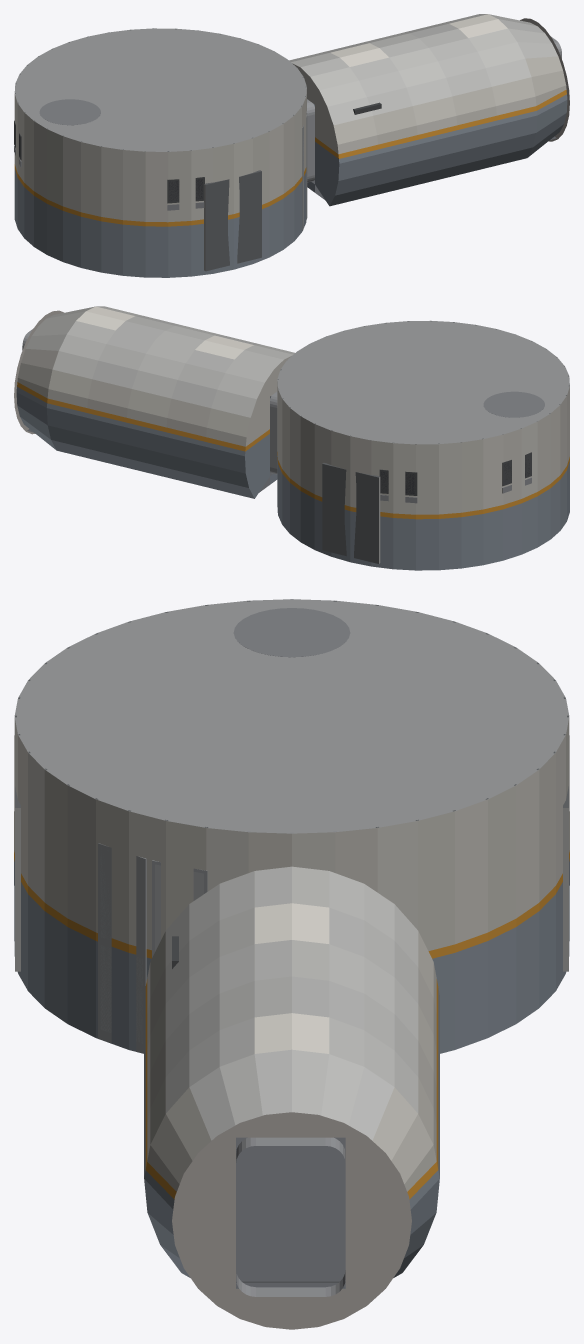
The model's file is habitat_interior.glb.
3 renders of one model, top to bottom at view 1: azimuth 30°, elevation 25°; view 2: azimuth 150°, elevation 25°; view 3: azimuth 270°, elevation 25°, orthographic. The views are drawn at different scales.
Visible parts, largest first — view 1: HabitatInterior; view 2: HabitatInterior; view 3: HabitatInterior.
Part boxes in pixels (x1,y1,x2,y2): HabitatInterior: (14, 14, 569, 277); HabitatInterior: (14, 306, 569, 570); HabitatInterior: (14, 599, 569, 1329).
Bounding box in the file's own units: 9.64 × 2.5 × 4.77.
